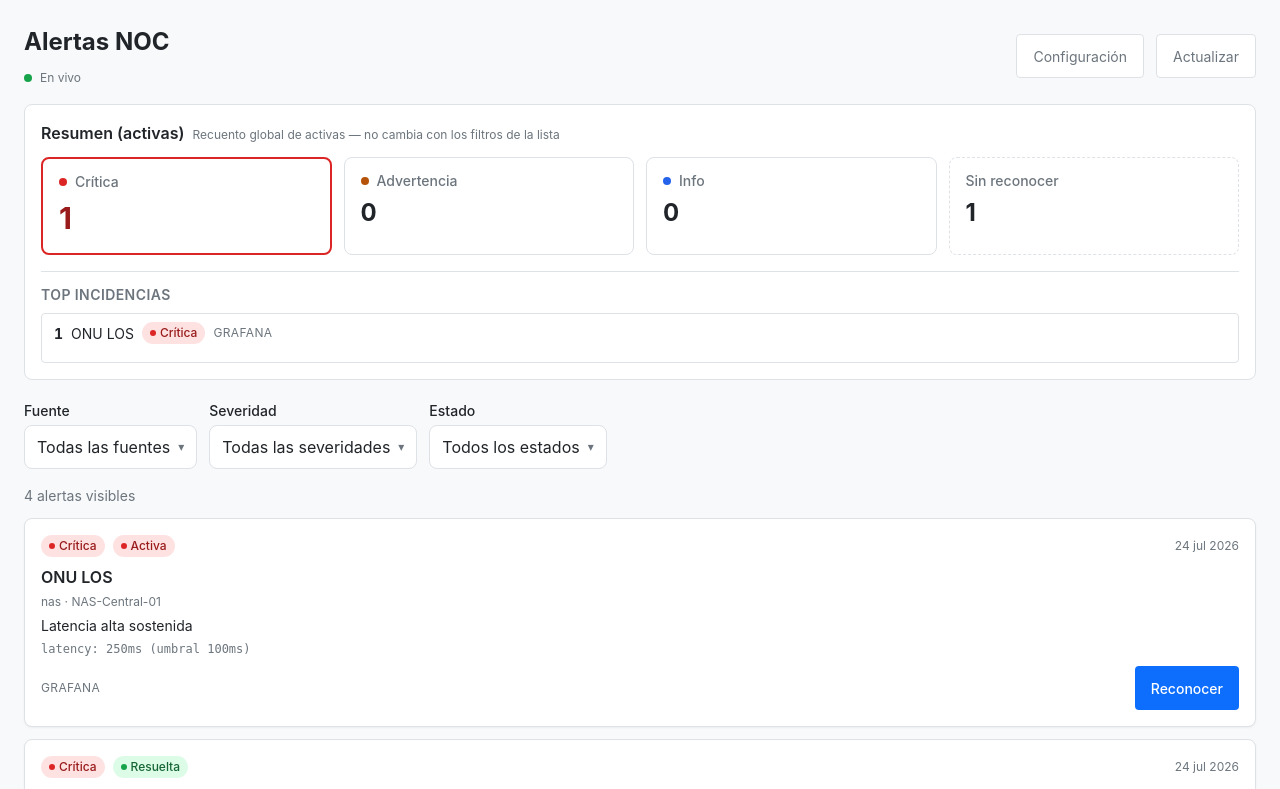
Test: ALP-11 incident type breakdown (top N) › MEDIO-1 (hermano): clicking a type row also filters the list to firing — the count matches the row
Expected: the text "1" below "Top incidencias" is shown, [54,324,63,342]
Click the button "1 ONU LOS Crítica grafana". click: (102, 333)
box: [41,313,1239,363]
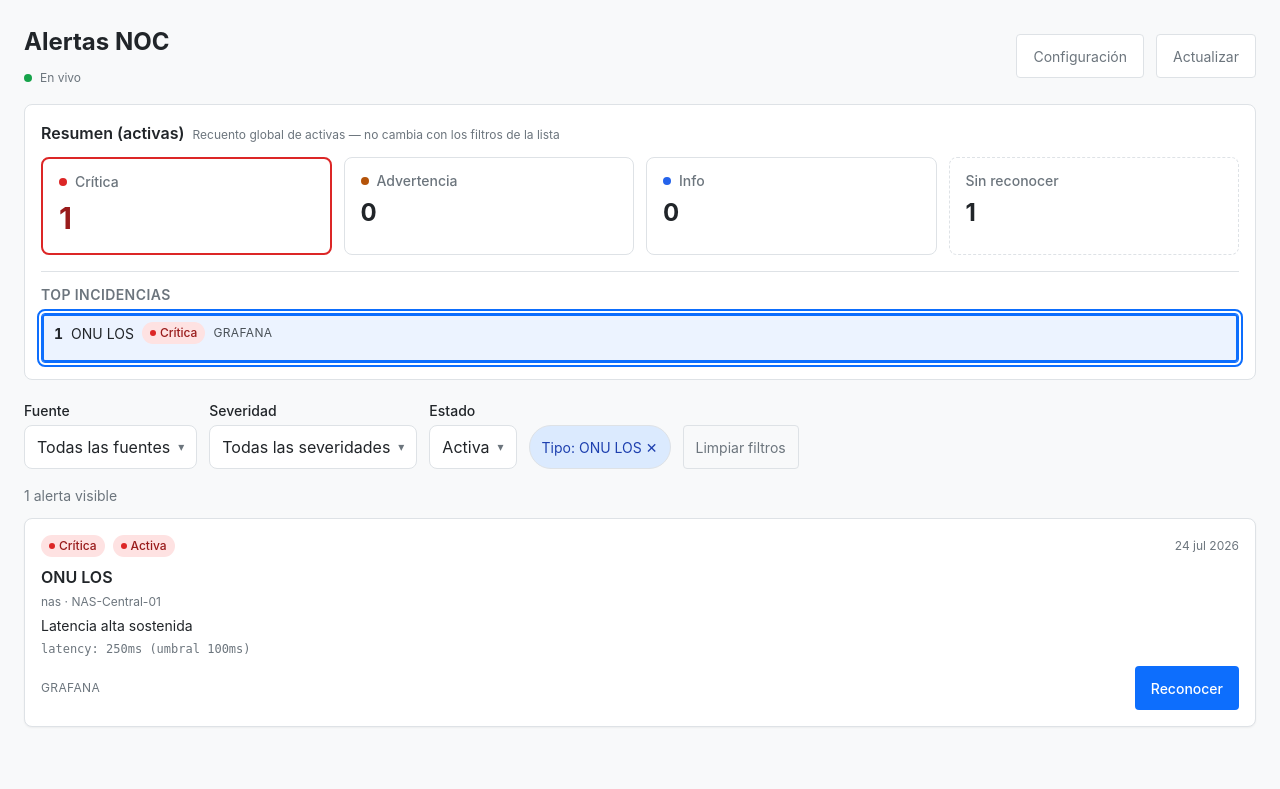
Expected: the text "1 alerta visible" is shown, [24,487,117,504]
Expected: the text "4 alertas visibles" is gone
Click the dropdown named "estado". click: (473, 447)
box: [429,425,517,469]
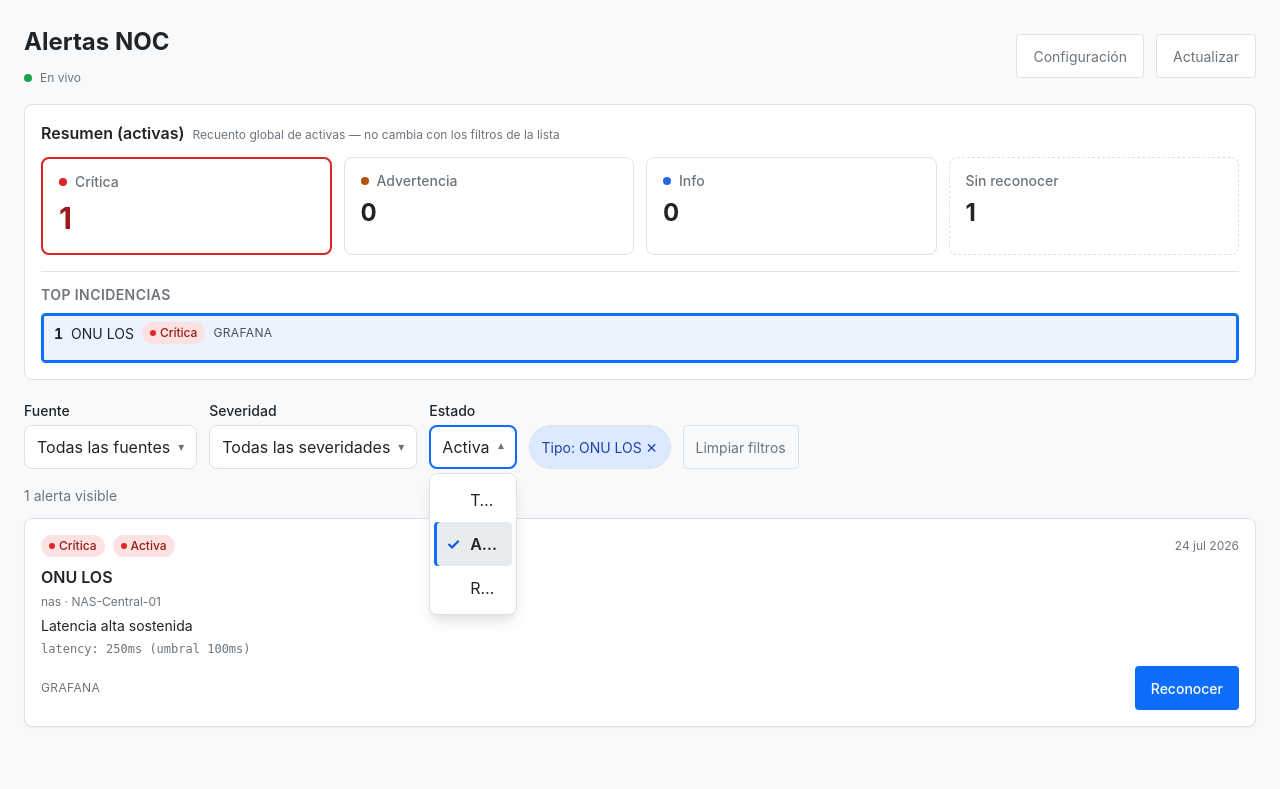
Click the option "Resuelta". click: (503, 588)
box: [470,578,535,598]
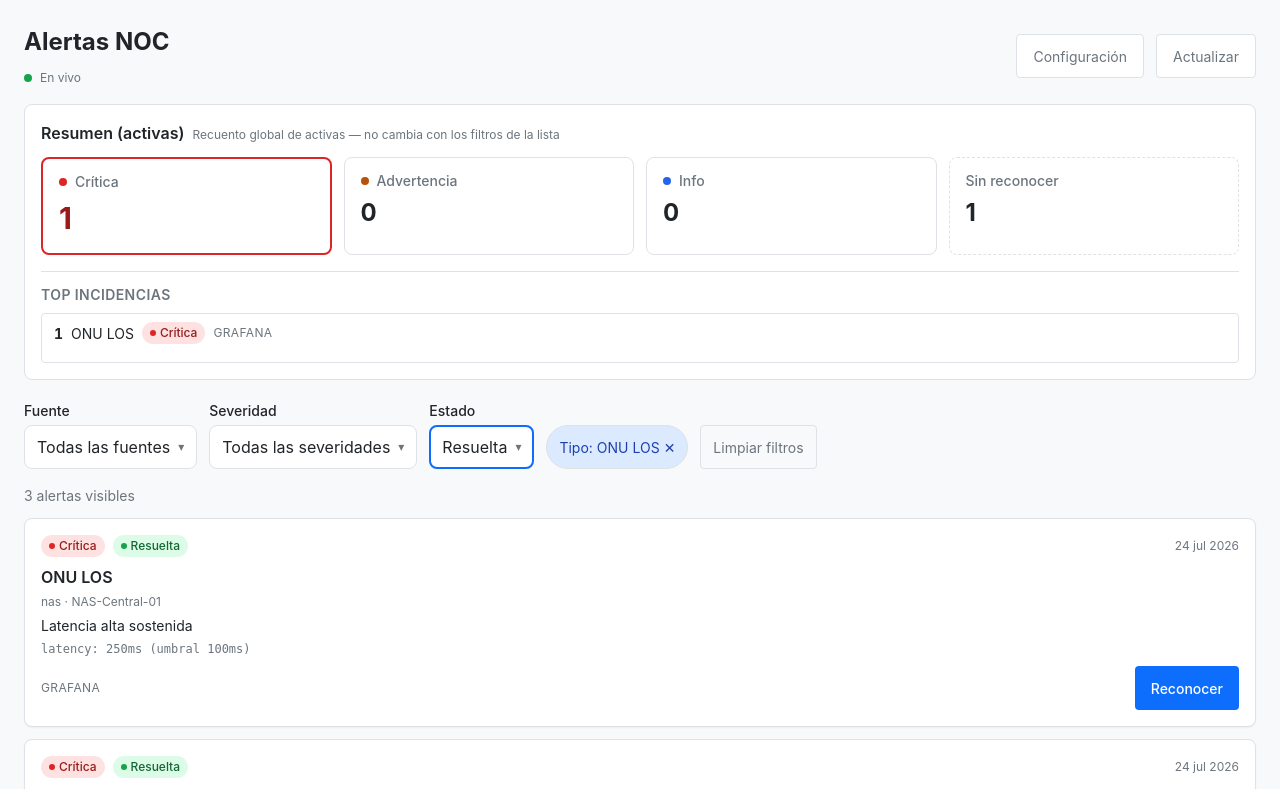
Expected: the text "3 alertas visibles" is shown, [24,487,135,504]
